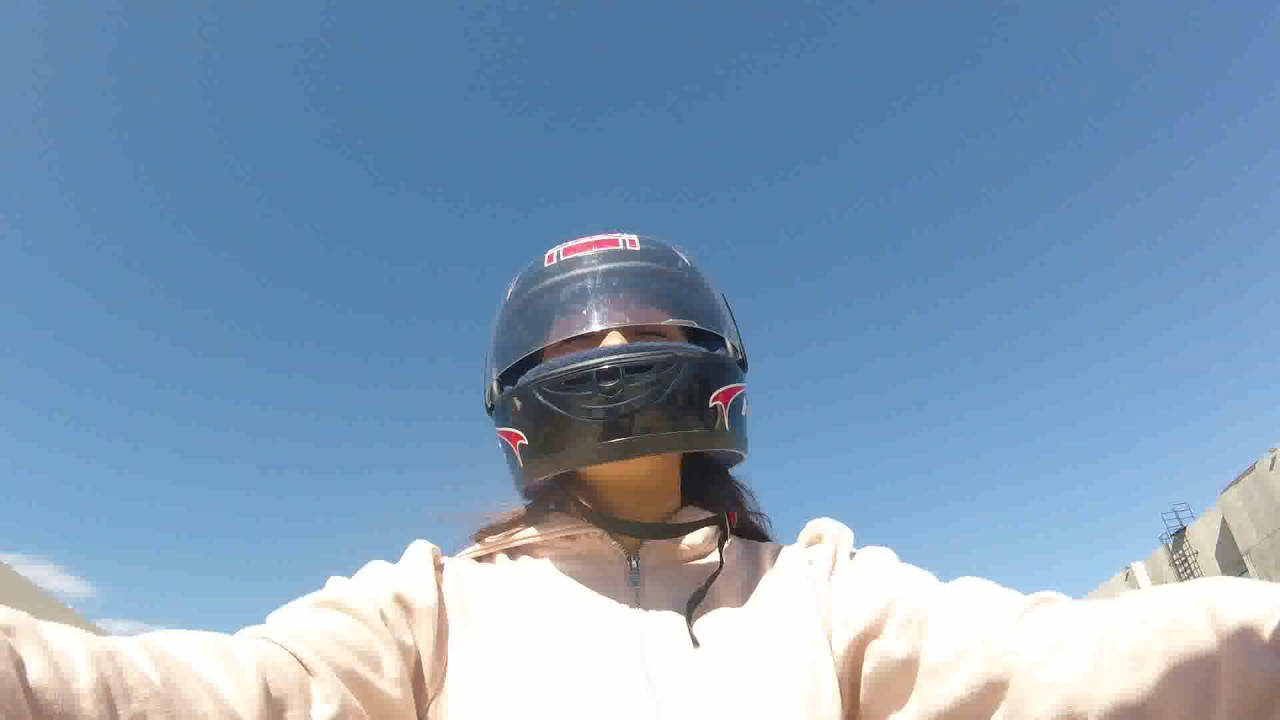With Helmet: (468, 218, 761, 548)
